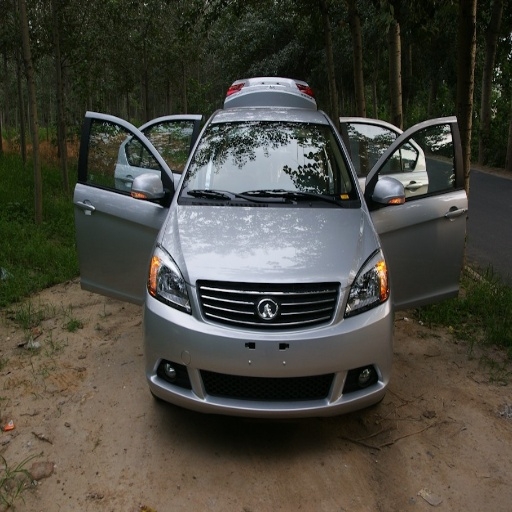front_bumper: (147, 280, 389, 419)
front_left_light: (343, 253, 389, 317)
front_right_door: (99, 118, 167, 221)
front_right_light: (149, 244, 192, 313)
hood: (168, 204, 377, 329)
